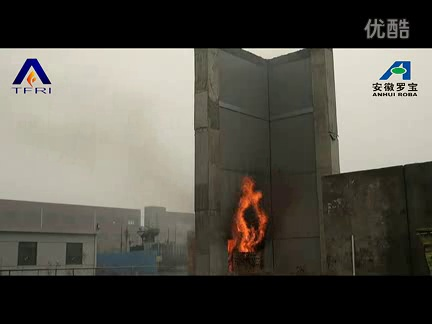fire: (221, 175, 270, 260)
